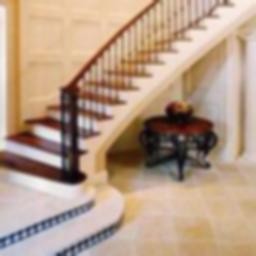Escaleras: (0, 0, 256, 185), (0, 183, 121, 256)
